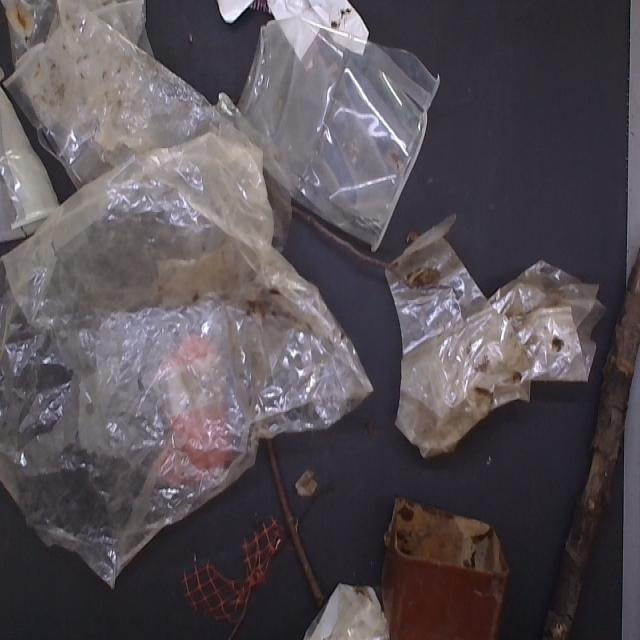food_wrapping: (217, 0, 381, 65)
plastic_cups: (255, 12, 424, 250), (0, 77, 58, 241)
plastic_films: (0, 152, 372, 584), (370, 242, 609, 456), (0, 0, 225, 183), (309, 589, 396, 640)
undef_hard_plastic: (377, 485, 521, 640)
